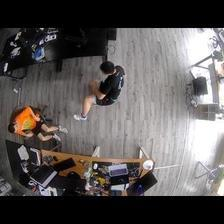fall: (72, 60, 124, 121)
normal: (7, 107, 67, 141)
